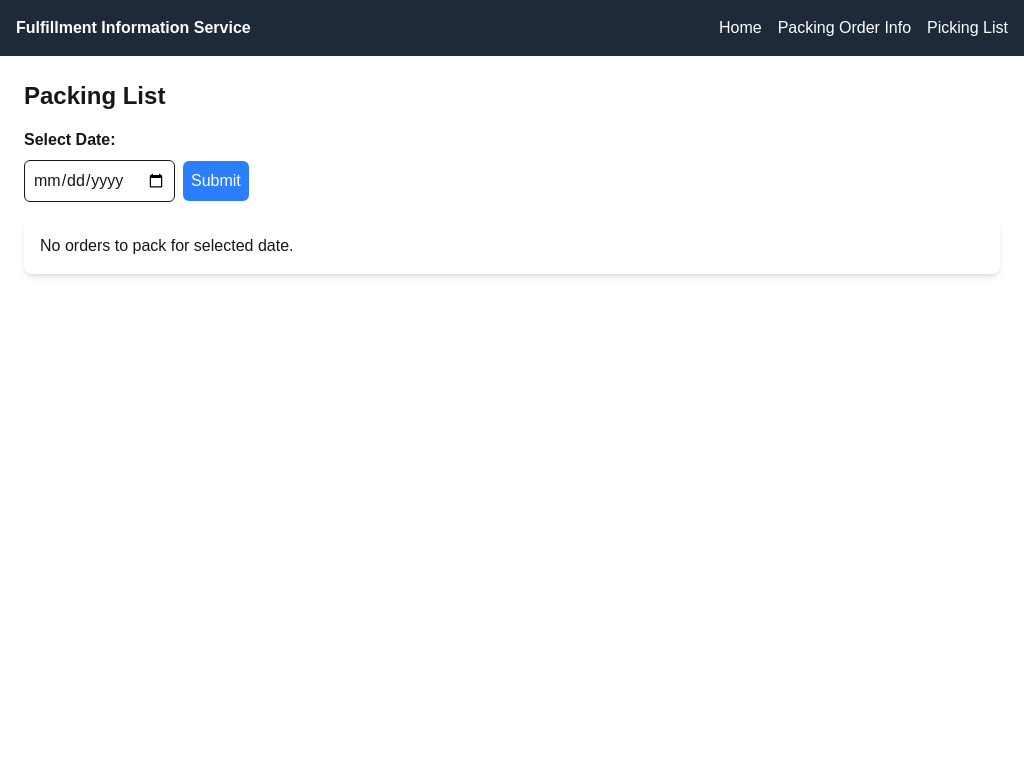
Test case: PackingList Component › handles multiple fetches correctly
Type "2025-04-01" into the date field labelled "Select Date:" at [100, 181], box [24,160,175,202]
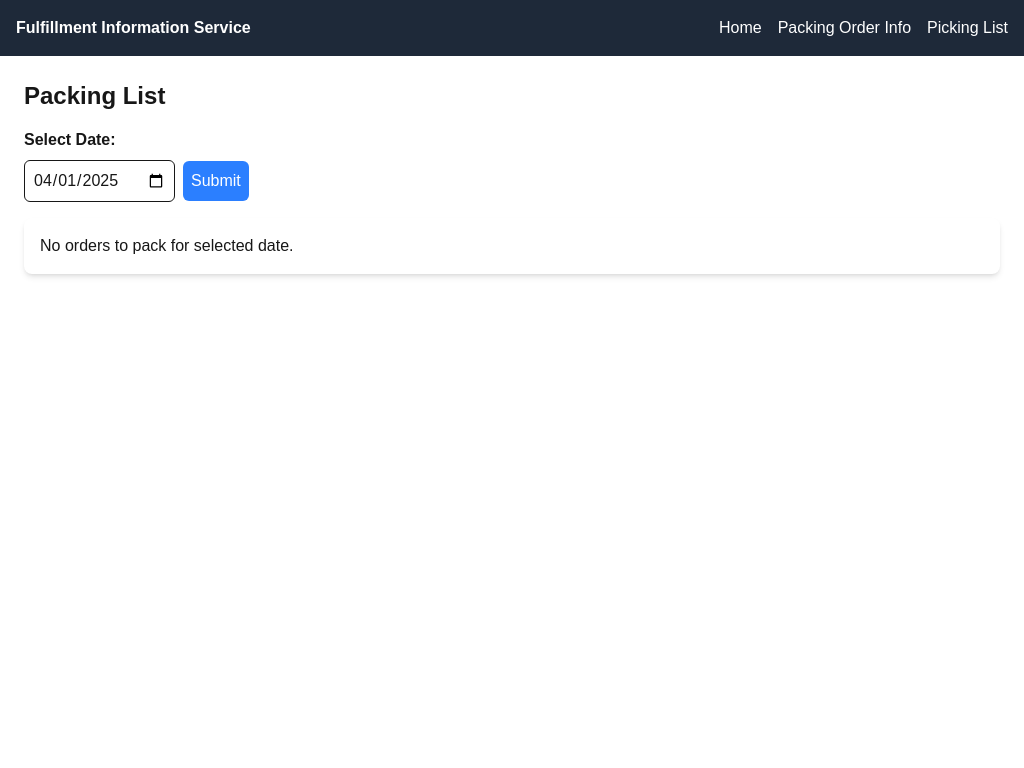
Click the button "Submit" at [216, 181], box [183,161,249,201]
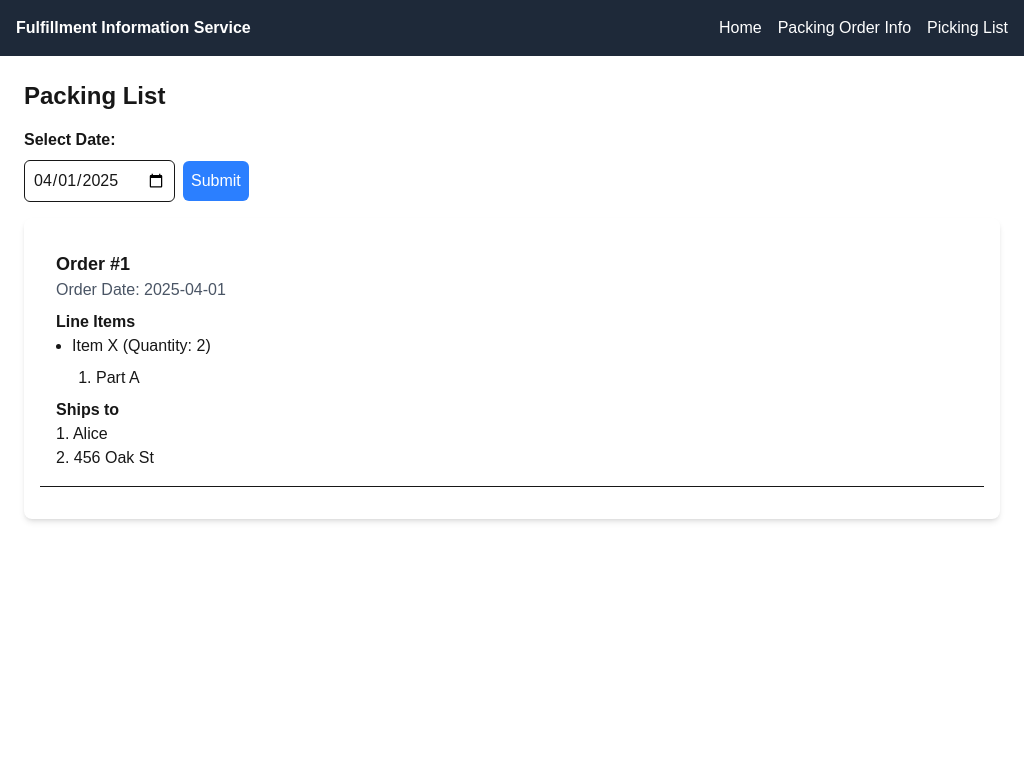
Expected: the text "Item X (Quantity: 2)" is shown, [72,337,211,354]
Expected: the list item "Part A" is shown, [96,369,140,386]
Expected: the text "1. Alice" is shown, [56,425,108,442]
Type "2025-04-02" into the date field labelled "Select Date:" at [100, 181], box [24,160,175,202]
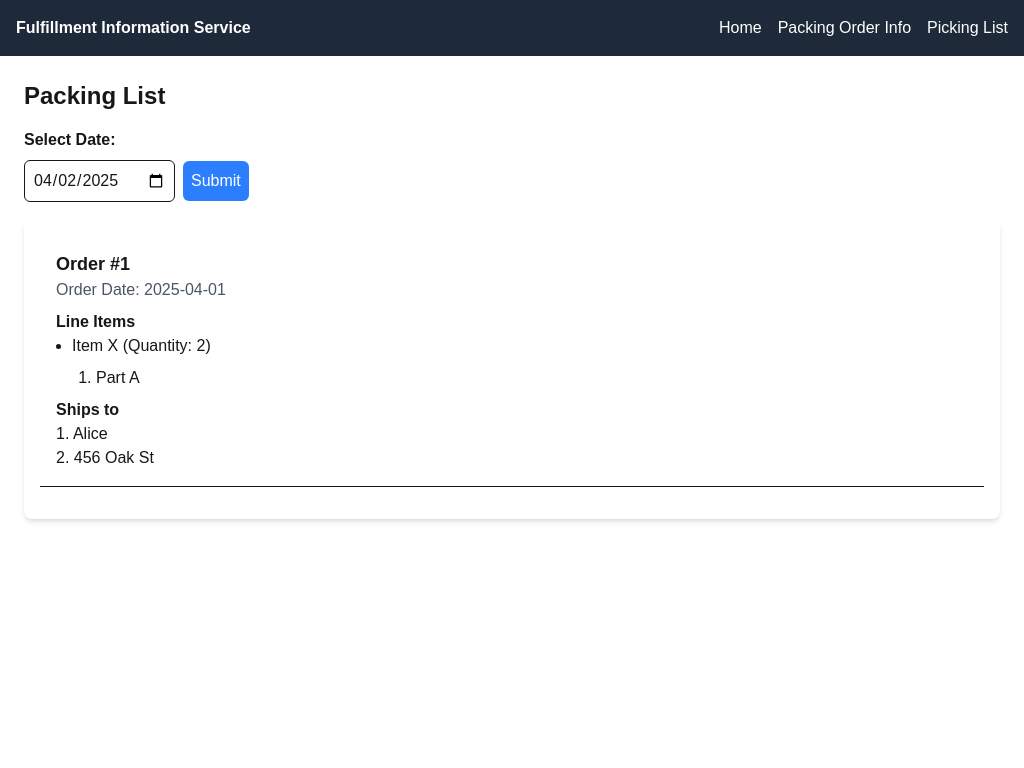
Click the button "Submit" at [216, 181], box [183,161,249,201]
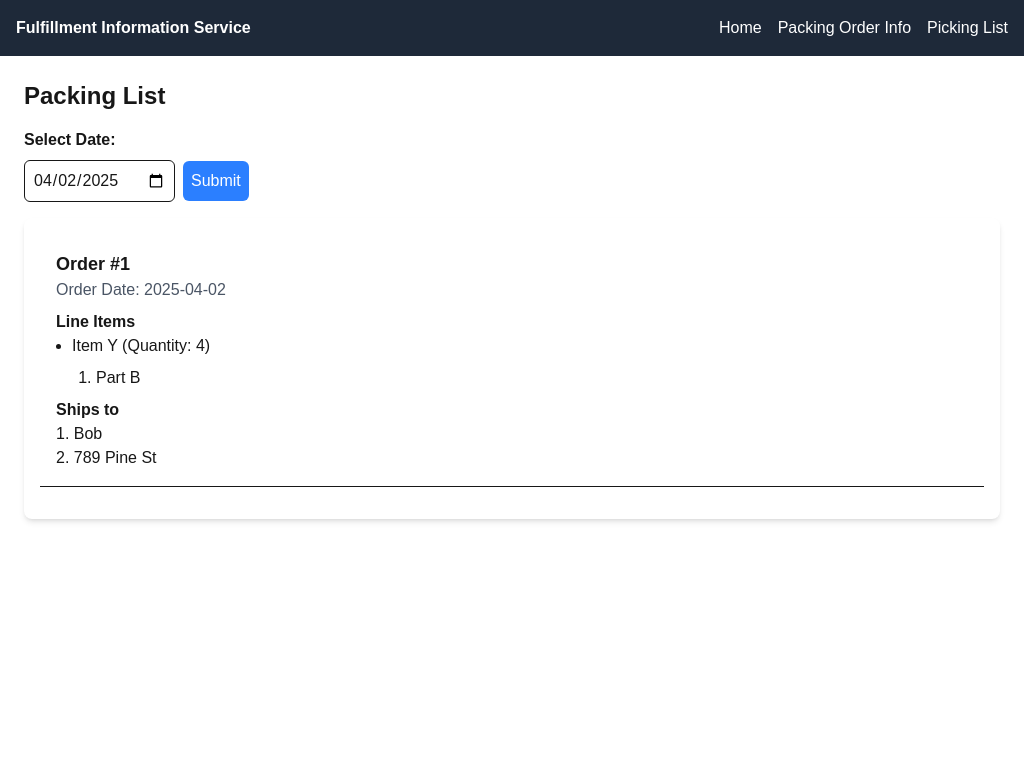
Expected: the text "Item Y (Quantity: 4)" is shown, [72,337,210,354]
Expected: the list item "Part B" is shown, [96,369,140,386]
Expected: the text "1. Bob" is shown, [56,425,102,442]
